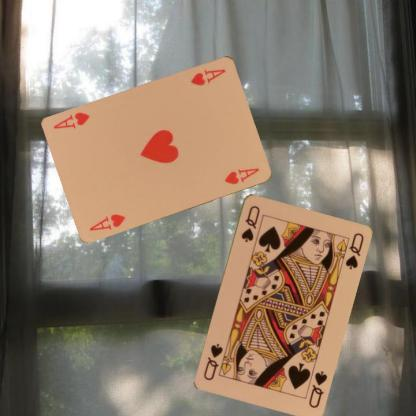Ah: (86, 211, 126, 232), (188, 66, 227, 87)
Qs: (238, 203, 261, 243), (306, 368, 328, 409)
